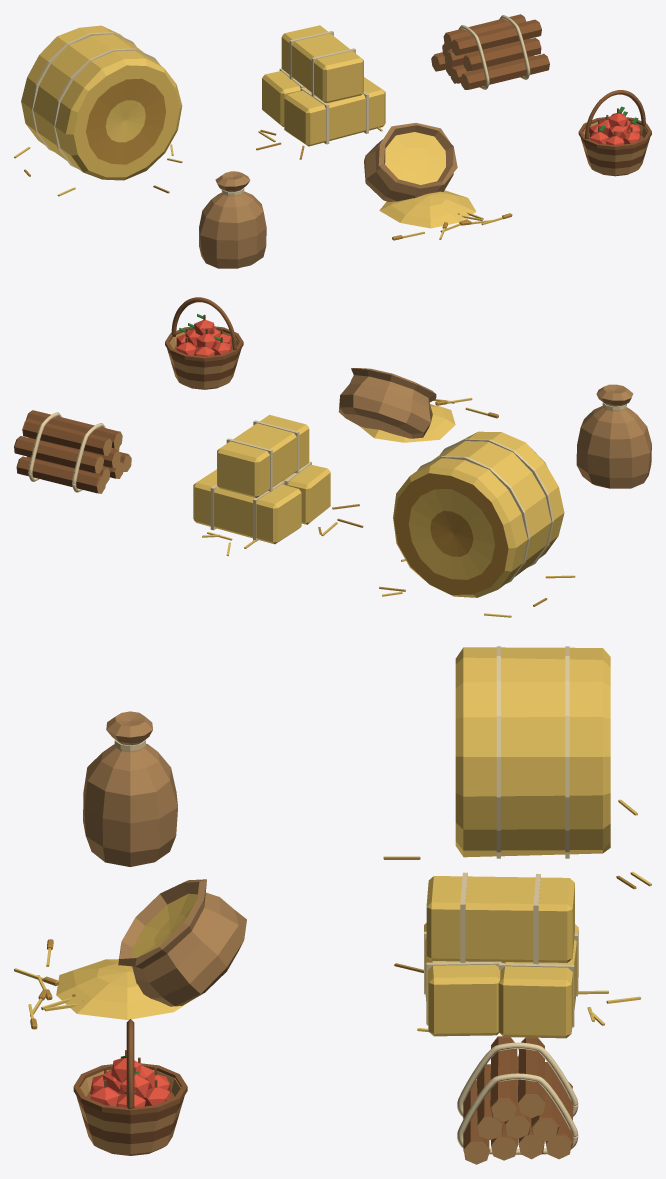
Rendered from farm-sacks-and-bales.glb.
3 views of the same model, one above another, from view 1: azimuth 30°, elevation 25°; view 2: azimuth 150°, elevation 25°; view 3: azimuth 270°, elevation 25° (orthographic). The views are drawn at different scales.
Parts seen in each view (by area): view 1: HayBale_Round, HayBale_Stack, Sack_Open_Spilled, Firewood_Bundle, Sack_Grain, Basket_Apples; view 2: HayBale_Round, HayBale_Stack, Firewood_Bundle, Sack_Open_Spilled, Sack_Grain, Basket_Apples; view 3: HayBale_Round, HayBale_Stack, Sack_Open_Spilled, Firewood_Bundle, Sack_Grain, Basket_Apples.
Boxes of the visible parts, x1,y1,x2,y2 form: HayBale_Round: (14, 25, 182, 196); HayBale_Stack: (256, 25, 385, 159); Sack_Open_Spilled: (364, 123, 512, 240); Firewood_Bundle: (431, 14, 549, 89); Sack_Grain: (199, 171, 266, 268); Basket_Apples: (578, 90, 651, 176); HayBale_Round: (379, 431, 575, 617); HayBale_Stack: (193, 415, 363, 556); Firewood_Bundle: (14, 410, 131, 493); Sack_Open_Spilled: (338, 368, 498, 442); Sack_Grain: (576, 384, 651, 488); Basket_Apples: (165, 297, 243, 389); HayBale_Round: (383, 646, 651, 889); HayBale_Stack: (394, 872, 640, 1038); Sack_Open_Spilled: (14, 879, 246, 1029); Firewood_Bundle: (457, 1036, 578, 1164); Sack_Grain: (83, 711, 177, 866); Basket_Apples: (73, 1019, 187, 1155).
Size of the model in its own units: 20.69 by 4.94 by 14.83.
